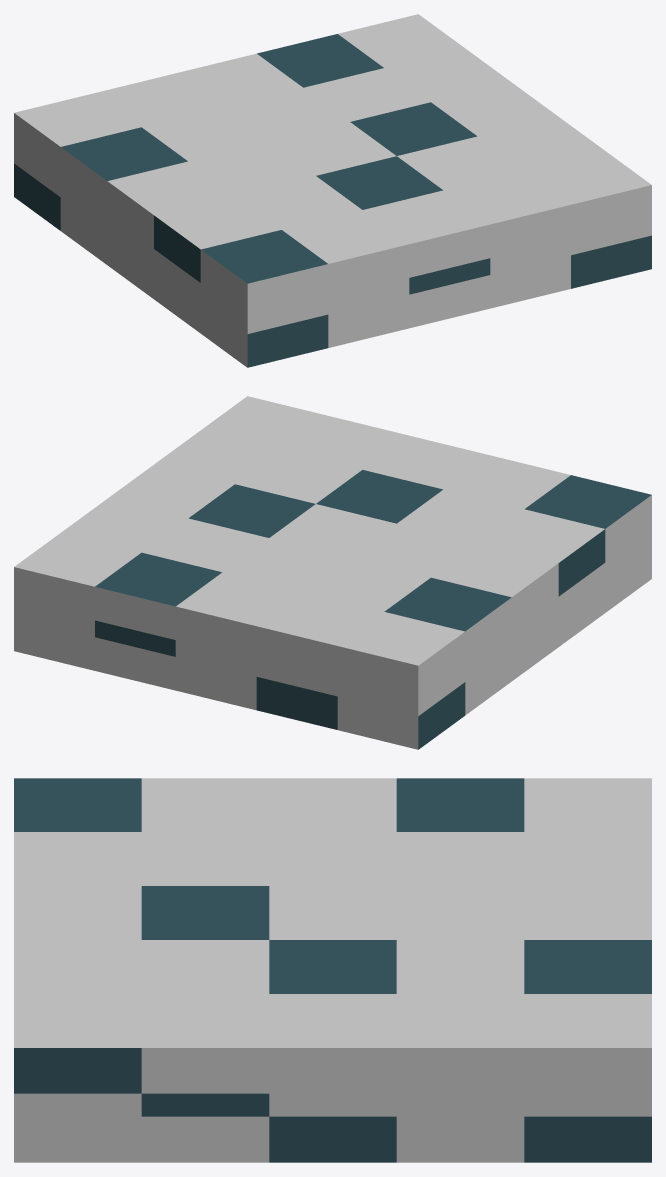
File: AzulejoMedio.fbx
The picture shows the model from 3 angles, top to bottom: view 1: azimuth 30°, elevation 25°; view 2: azimuth 150°, elevation 25°; view 3: azimuth 270°, elevation 25°; orthographic projection. The views are drawn at different scales.
Visible parts, largest first — view 1: AzulejoMedio; view 2: AzulejoMedio; view 3: AzulejoMedio.
Boxes of the visible parts, bbox=[...] form: AzulejoMedio: bbox=[14, 14, 651, 367]; AzulejoMedio: bbox=[14, 396, 651, 749]; AzulejoMedio: bbox=[14, 778, 651, 1162].
Size of the model in its own units: 224 by 44.59 by 224.
